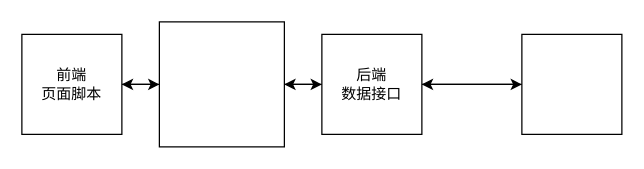
This 644x169 diagram has some shape labels left out. Here are the shapes that lost their labels. From the top down, the centre of each, then its label:
At (221,84): "中间层 拿到数据 组装HTML 返回完整的HTML静态页面".
At (571,83): "数据库".
